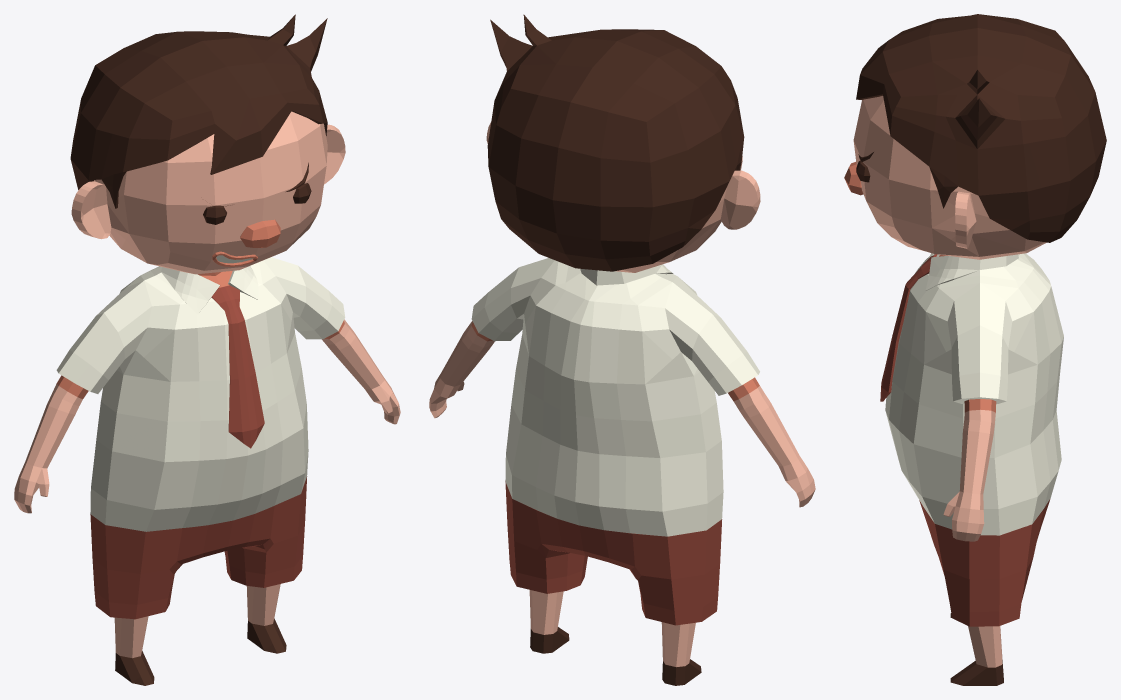
File: BudiSD.fbx
The picture shows the model from 3 angles, left to right: view 1: azimuth 30°, elevation 25°; view 2: azimuth 150°, elevation 25°; view 3: azimuth 270°, elevation 25°; orthographic projection.
Visible parts, largest first — view 1: Cube.034; view 2: Cube.034; view 3: Cube.034.
Part boxes in pixels (<box>): Cube.034: <box>14,14,400,685</box>; Cube.034: <box>429,14,815,685</box>; Cube.034: <box>844,14,1106,685</box>.
Size of the model in its own units: 428 by 672 by 256.
